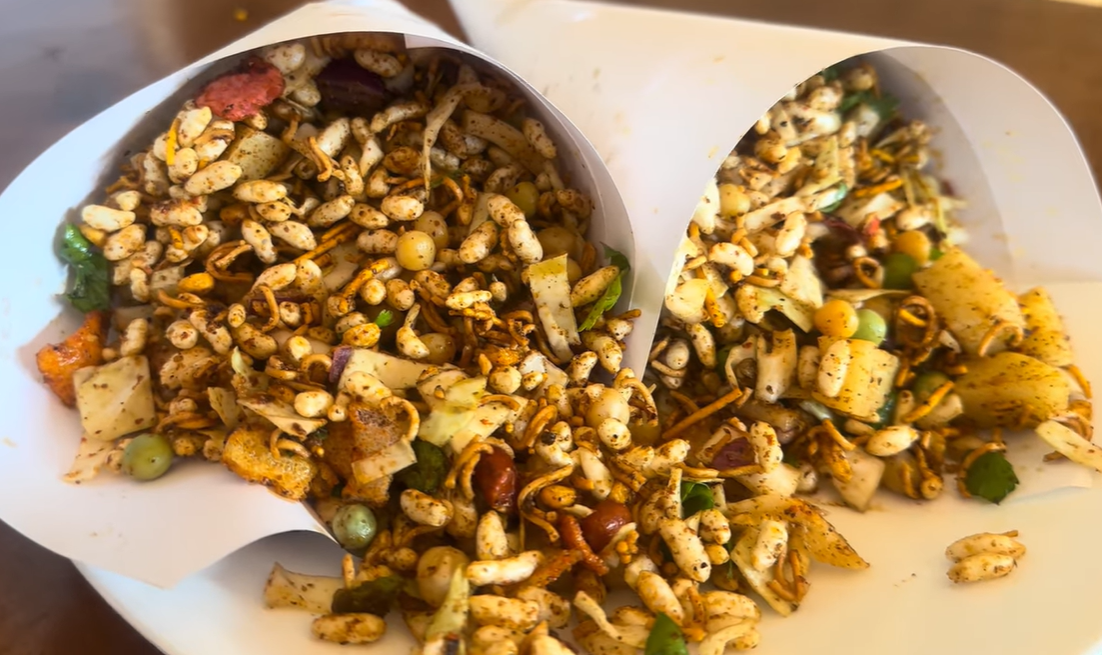chatpate: (134, 111, 1053, 626)
